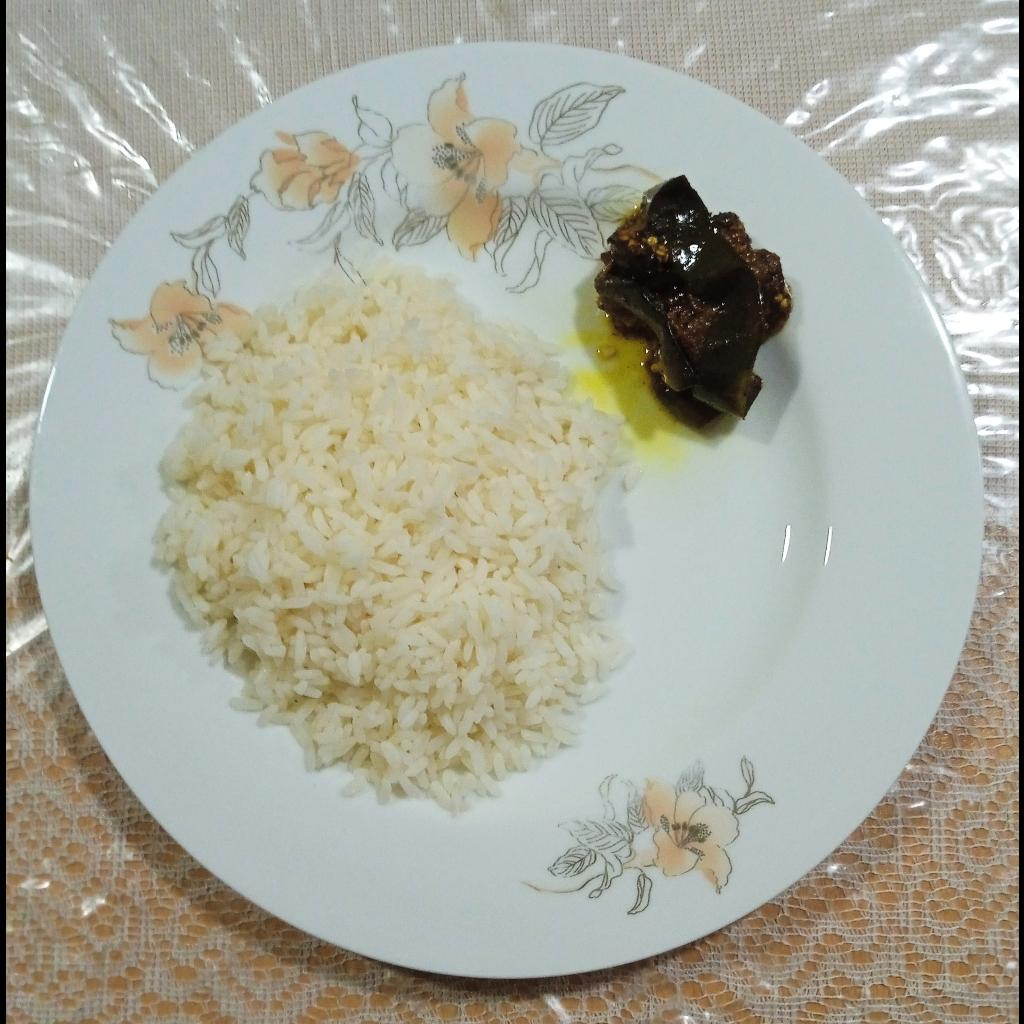begun-vaji: (589, 169, 795, 432)
rice: (148, 260, 632, 821)
